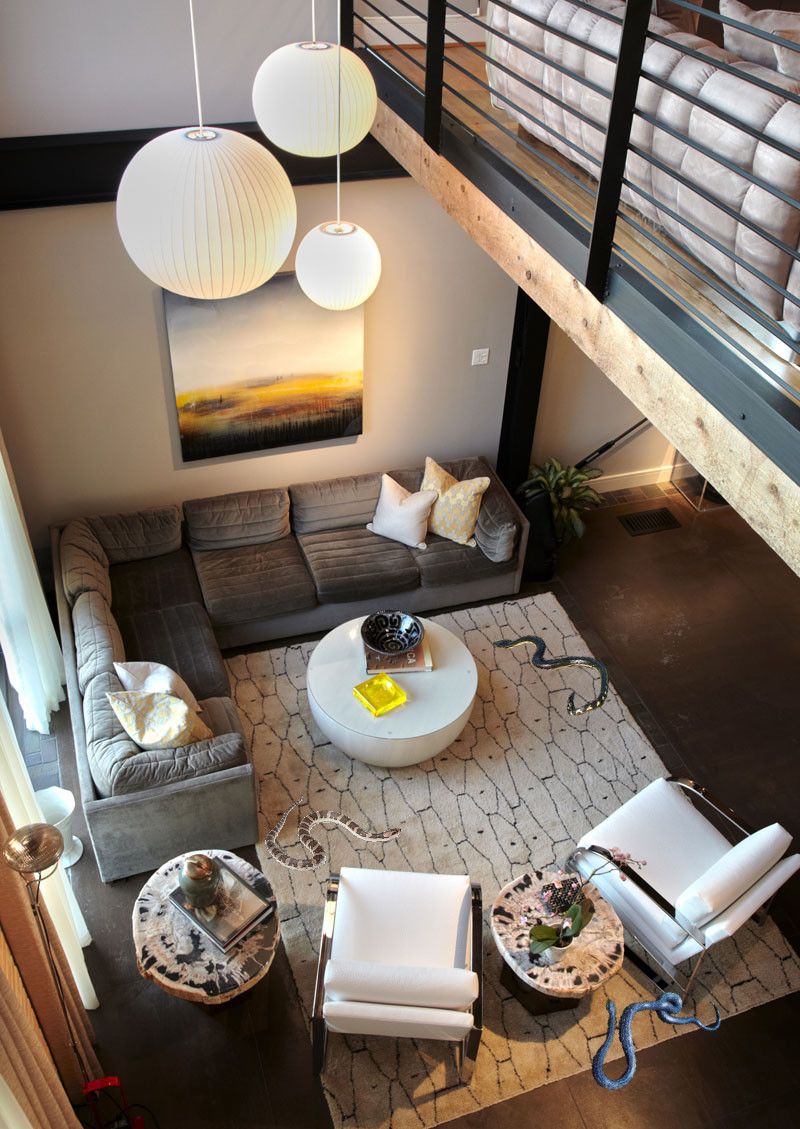snake: (590, 990, 729, 1090), (490, 631, 611, 717), (265, 797, 402, 871)
